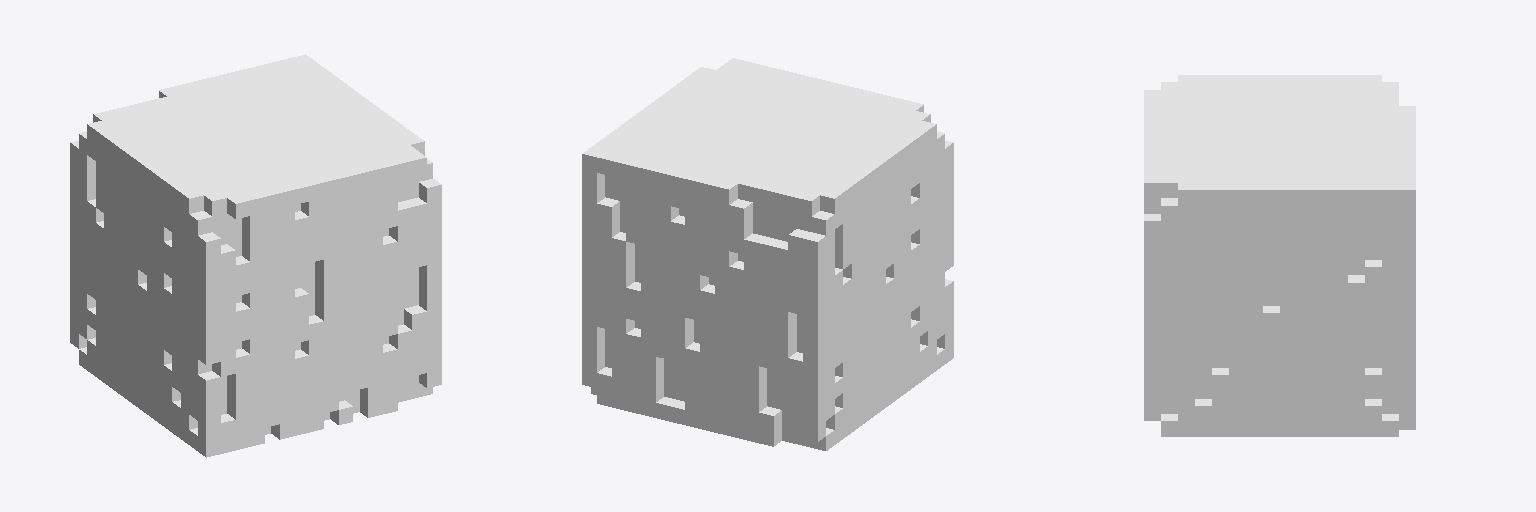
Rendered from WallTile001.obj.
3 renders of one model, left to right at view 1: azimuth 30°, elevation 25°; view 2: azimuth 150°, elevation 25°; view 3: azimuth 270°, elevation 25°, orthographic.
Visible parts, largest first — view 1: object 1; view 2: object 1; view 3: object 1.
Part boxes in pixels (bbox=[...]): object 1: bbox=[70, 54, 441, 457]; object 1: bbox=[582, 58, 953, 450]; object 1: bbox=[1144, 75, 1415, 436].
Bounding box in the file's own units: 1.6 × 1.6 × 1.6.